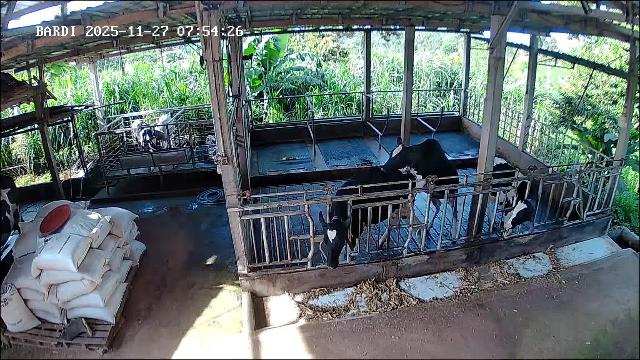mounting: (381, 137, 460, 233)
